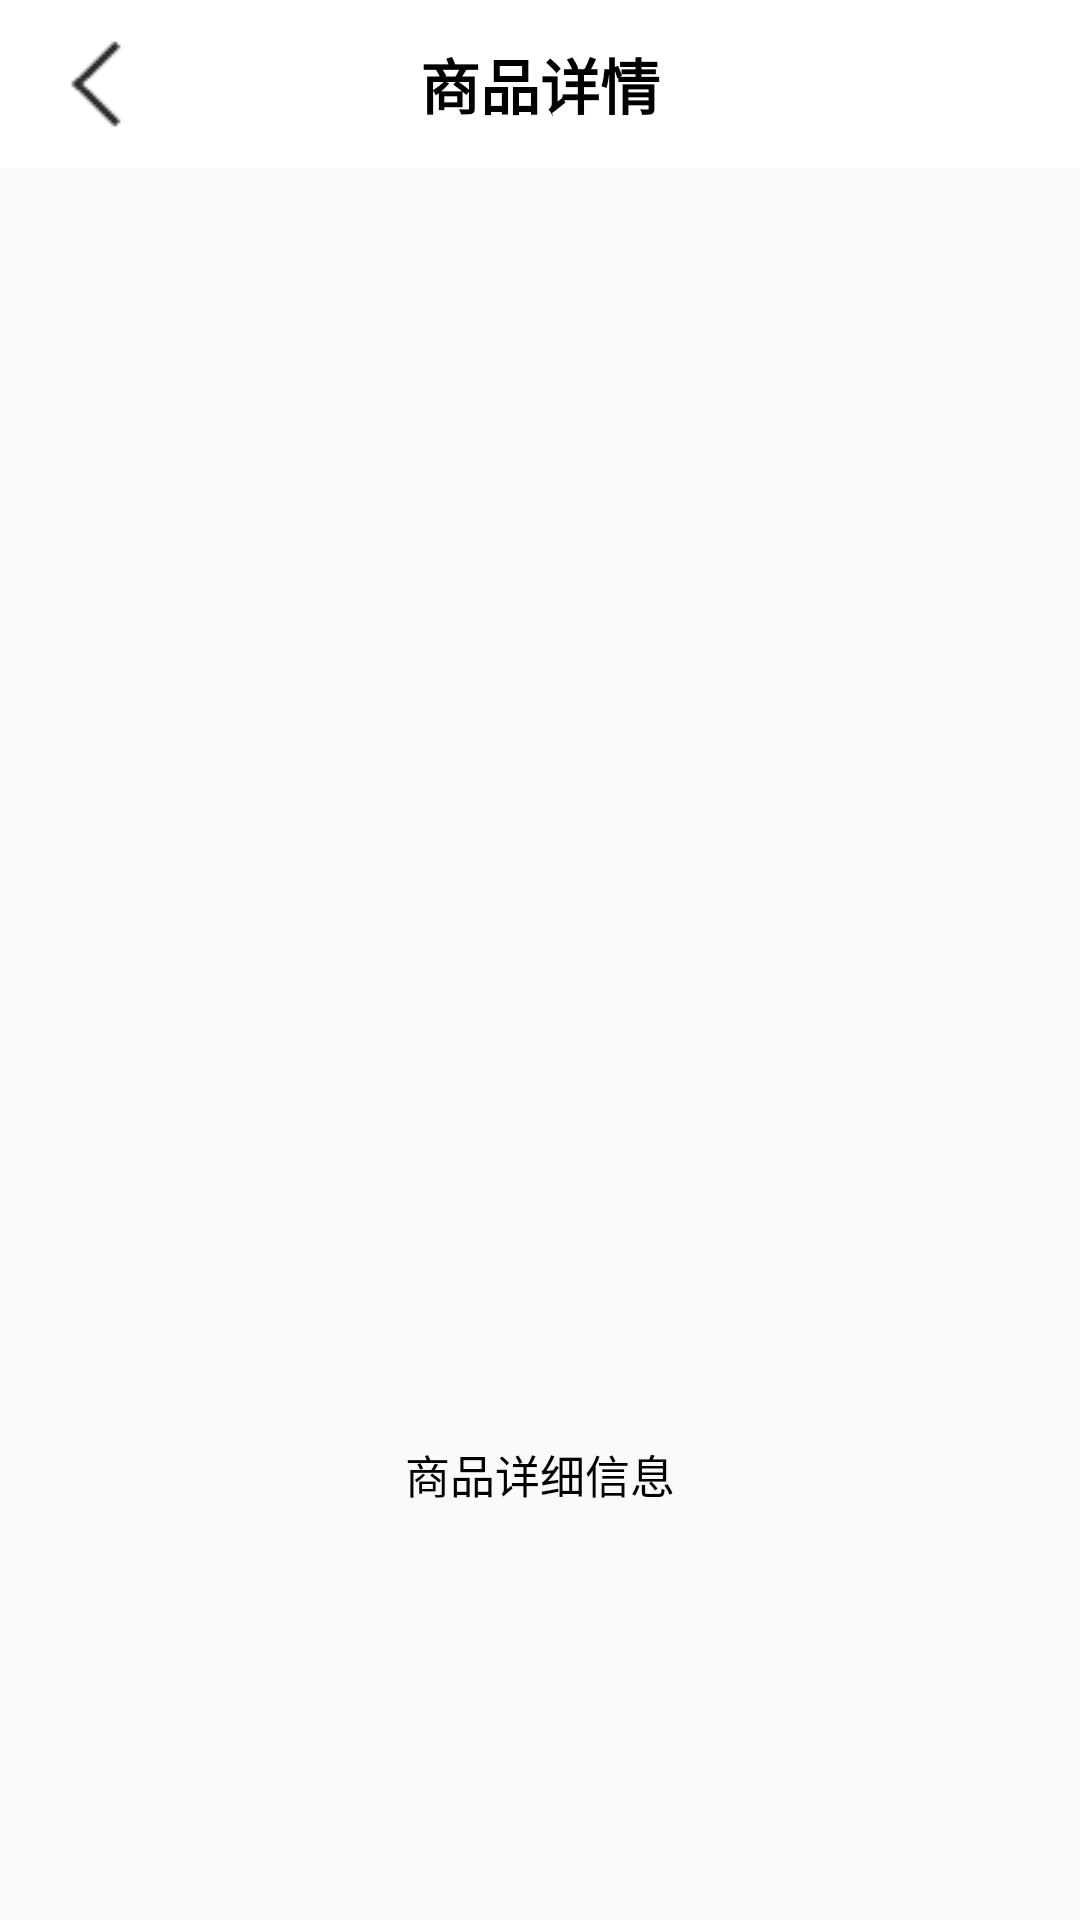

Locate icon controls on the screen. Image size 1080w x 1920h, boxes as bbox=(x1, y1, x2, y2).
back: bbox=(71, 41, 121, 127)
